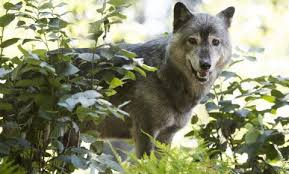wolf: (1, 14, 246, 147)
